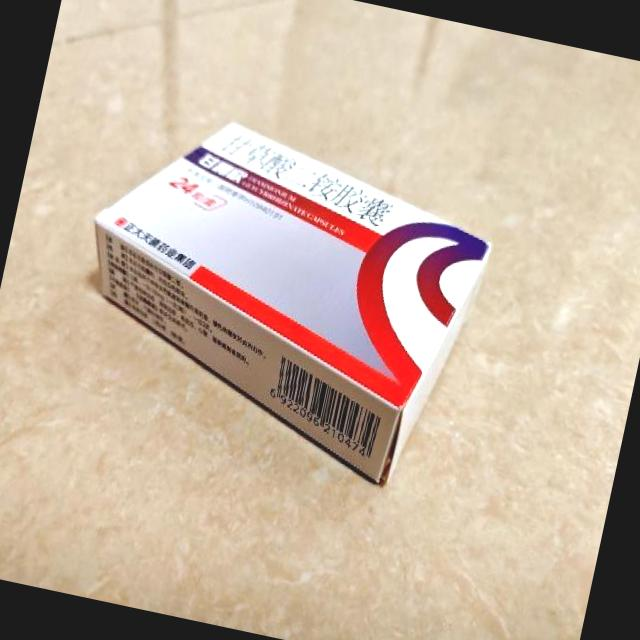box: (52, 95, 504, 498)
